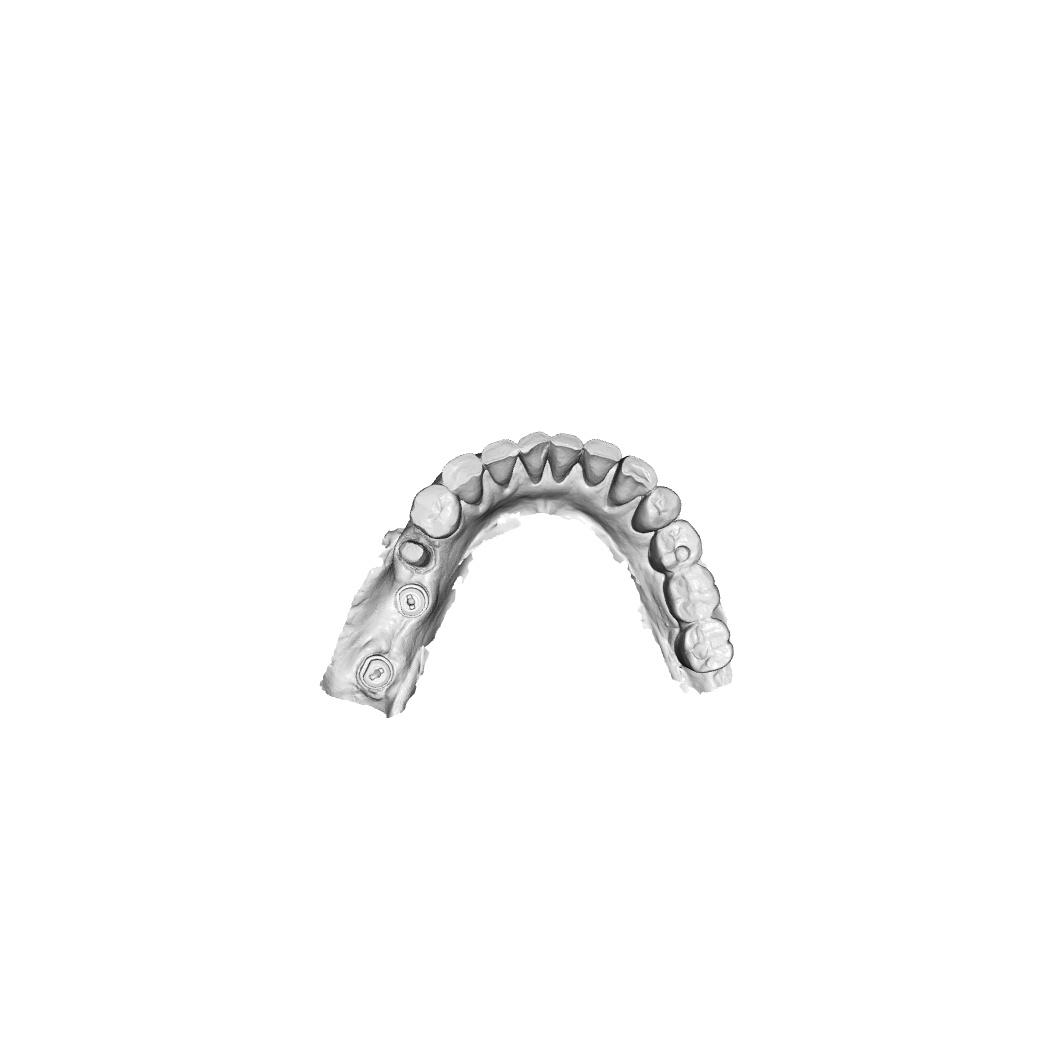canine: (607, 454, 659, 508), (441, 451, 485, 506)
crown: (395, 534, 437, 574)
implant_minus: (355, 654, 395, 691), (394, 582, 431, 619)
incisor: (581, 438, 623, 487), (517, 429, 552, 486), (481, 438, 519, 487), (549, 432, 584, 485)
molar: (662, 563, 721, 624), (673, 616, 735, 674)
premolar: (647, 518, 704, 575), (408, 482, 464, 540), (629, 485, 683, 534)
